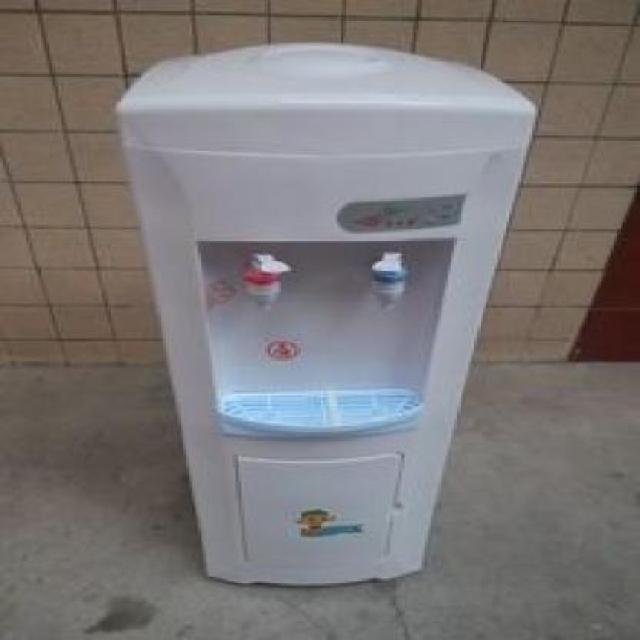cooler: (111, 39, 545, 598)
